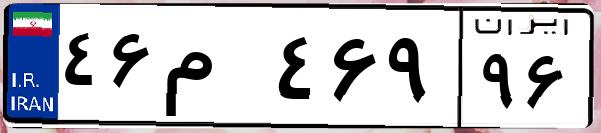4: (270, 28, 330, 110), (57, 26, 110, 100)
6: (330, 28, 385, 110), (525, 38, 570, 115), (110, 28, 158, 98)
9: (385, 28, 445, 110), (475, 38, 525, 113)
م: (158, 20, 270, 120)
